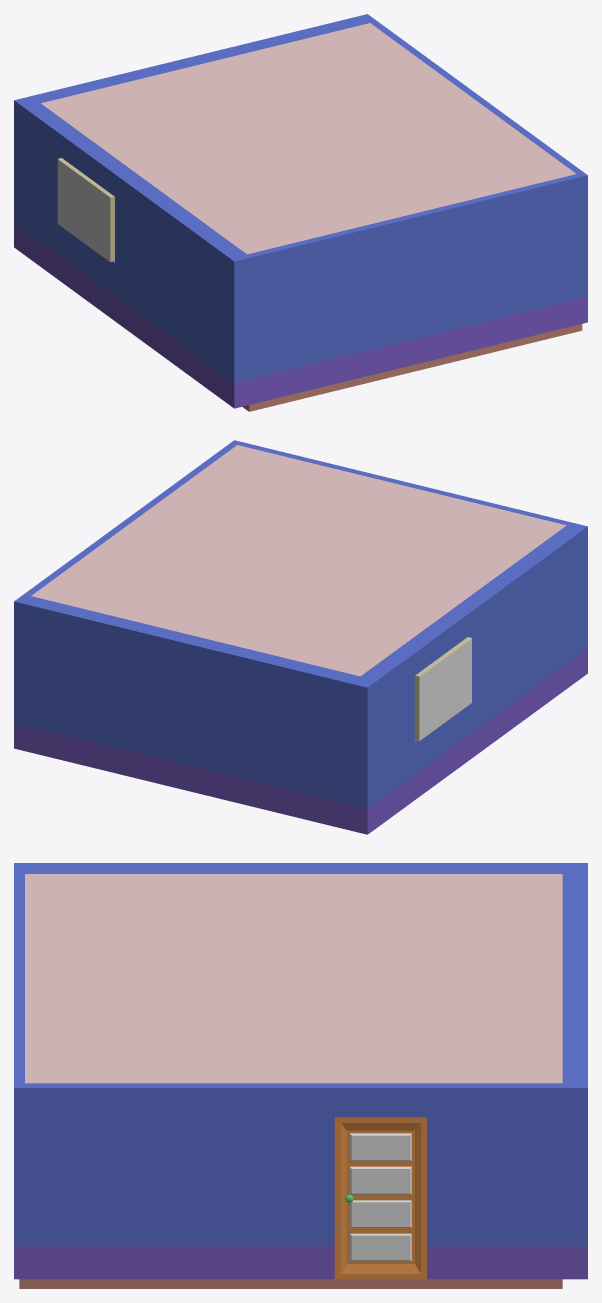
File: yatakodasi.fbx
3 views of the same model, one above another, from view 1: azimuth 30°, elevation 25°; view 2: azimuth 150°, elevation 25°; view 3: azimuth 270°, elevation 25° (orthographic). The views are drawn at different scales.
Visible parts, largest first — view 1: yatakodasi_duvar, yatakodasi_tavan, pencere, yatakodasi_zemin, yatakodasi_duvar.001; view 2: yatakodasi_duvar, yatakodasi_tavan, pencere, yatakodasi_duvar.002, yatakodasi_duvar.001; view 3: yatakodasi_tavan, yatakodasi_duvar.001, yatakodasi_duvar.002, kapi_1, yatakodasi_duvar, yatakodasi_zemin, yatakodasi_duvar.003.
Part boxes in pixels (<box>): yatakodasi_duvar: <box>14,16,580,408</box>; yatakodasi_tavan: <box>41,23,575,254</box>; pencere: <box>57,158,114,262</box>; yatakodasi_zemin: <box>242,324,582,411</box>; yatakodasi_duvar.001: <box>458,85,587,323</box>; yatakodasi_duvar: <box>21,442,587,834</box>; yatakodasi_tavan: <box>31,445,566,676</box>; pencere: <box>414,637,471,741</box>; yatakodasi_duvar.002: <box>14,556,82,749</box>; yatakodasi_duvar.001: <box>111,440,240,531</box>; yatakodasi_tavan: <box>25,874,562,1083</box>; yatakodasi_duvar.001: <box>14,1083,334,1279</box>; yatakodasi_duvar.002: <box>427,1083,587,1279</box>; kapi_1: <box>334,1117,426,1279</box>; yatakodasi_duvar: <box>14,863,587,1083</box>; yatakodasi_zemin: <box>19,1279,562,1288</box>; yatakodasi_duvar.003: <box>334,1083,426,1117</box>.
Bounding box in the file's own units: 9.95 × 4.13 × 10.58.
